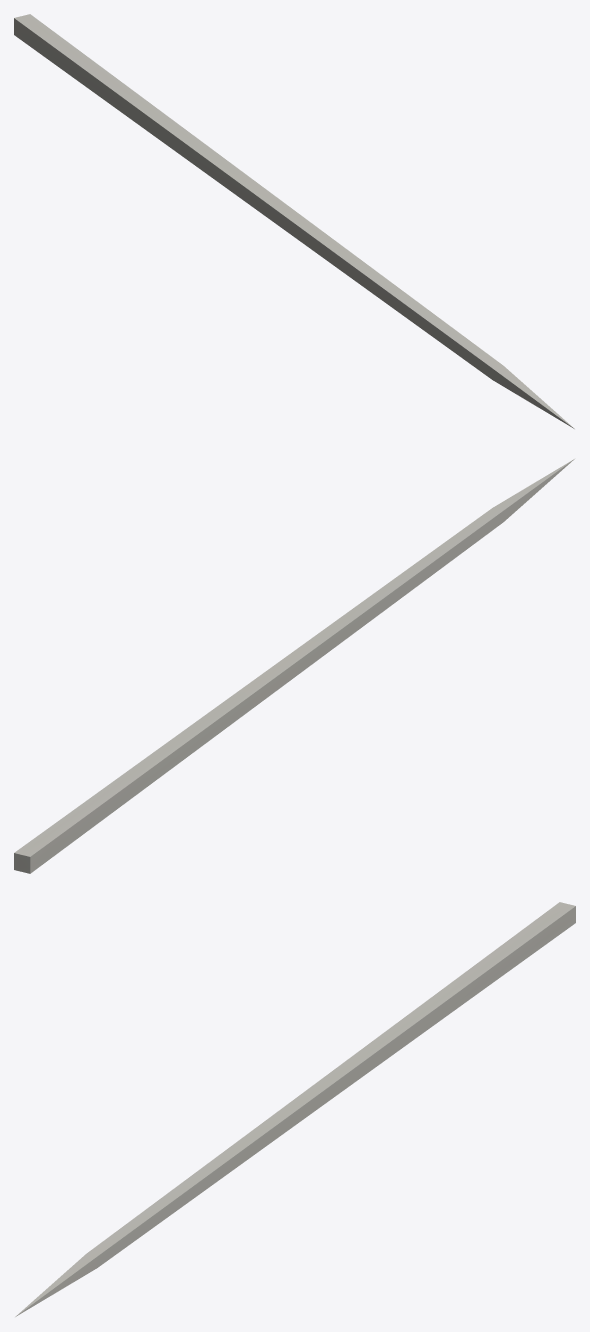
Rendered from jsf_Skewer_02.fbx.
The picture shows the model from 3 angles, top to bottom: view 1: azimuth 30°, elevation 25°; view 2: azimuth 150°, elevation 25°; view 3: azimuth 330°, elevation 25°; orthographic projection.
Visible parts, largest first — view 1: jsf_Skewer_02; view 2: jsf_Skewer_02; view 3: jsf_Skewer_02.
Part boxes in pixels (box(x1,y1,x2,y2)): jsf_Skewer_02: box(14, 14, 574, 428); jsf_Skewer_02: box(14, 459, 574, 873); jsf_Skewer_02: box(15, 902, 575, 1316).
Size of the model in its own units: 0.2 by 0.2 by 11.82.
